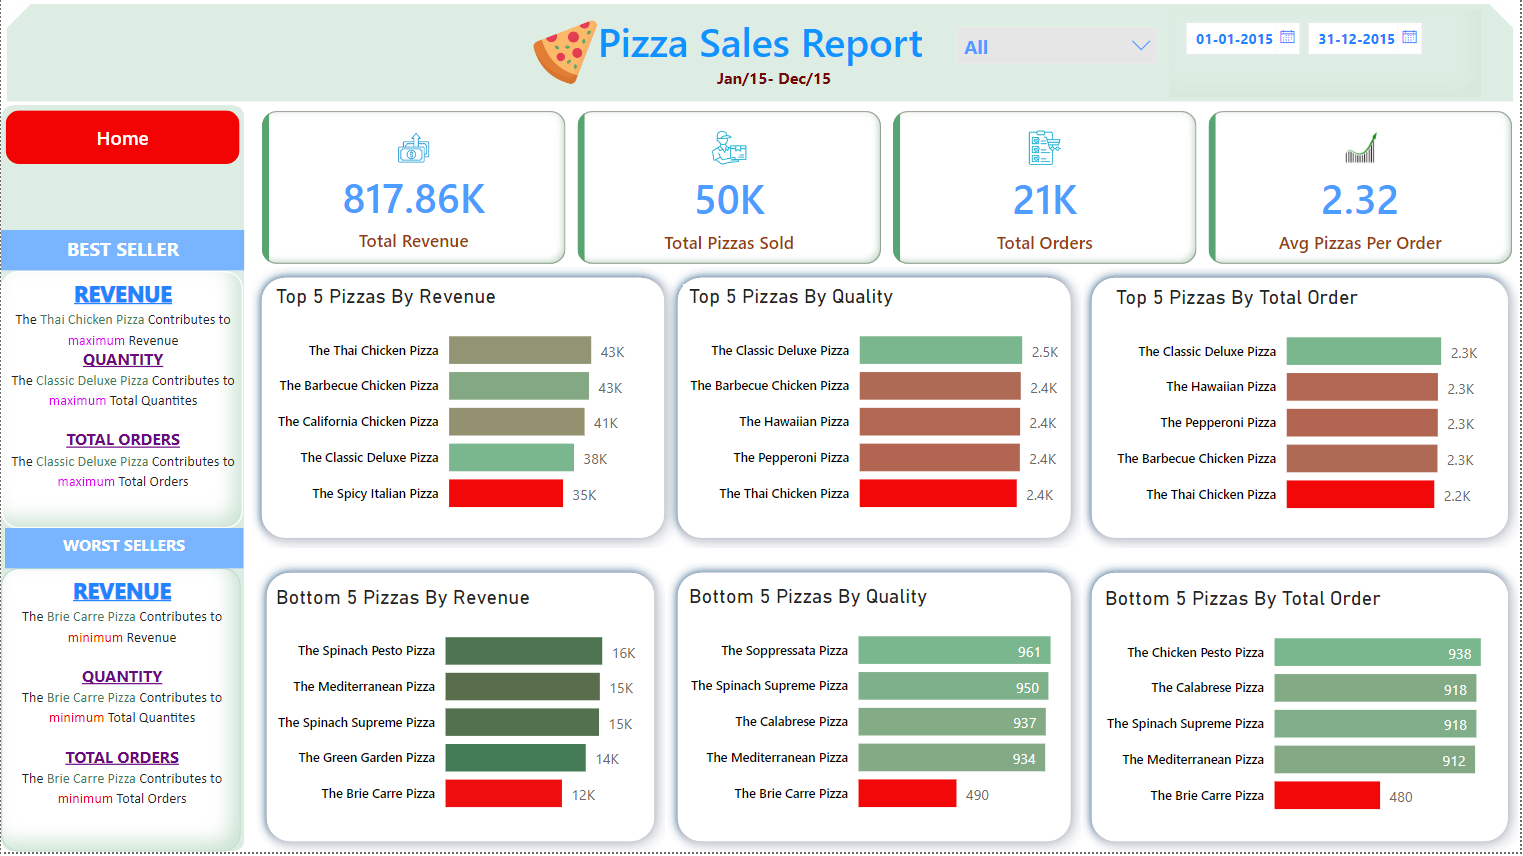

The dashboard page shown, as its layout file describes it:
{"tool":"powerbi","page":{"name":"Next Page","canvas":[1280,720],"ordinal":1},"visuals":[{"type":"cardVisual","fields":{"Data":["pizza_sales.Total Revenue","pizza_sales.Total Pizzas Sold","pizza_sales.Total Orders","pizza_sales.Avg Pizzas Per Order"]},"box":[215.2,90.6,1064.6,139.1],"z":0},{"type":"shape","box":[0,0,1279.8,92.2],"z":1000},{"type":"textbox","box":[10,312.5,1270,163],"z":2000},{"type":"textbox","box":[572.8,53.4,158.6,37.2],"z":3000},{"type":"image","box":[388.3,12.9,173.1,66.3],"z":4000},{"type":"shape","box":[210.4,226.6,357.3,237.3],"z":5000},{"type":"shape","box":[0,90.6,205.5,629.4],"z":6000},{"type":"textbox","box":[0,195.8,205.5,34],"z":7000},{"type":"textbox","box":[0,229.8,203.9,216.8],"z":8000},{"type":"textbox","box":[0,480.5,202.2,239.5],"z":9000},{"type":"textbox","box":[3.2,446.6,200.6,34],"z":10000},{"type":"slicer","fields":{"Values":["pizza_sales.pizza_category"]},"box":[796,14.6,189.3,76],"z":11000},{"type":"slicer","fields":{"Values":["pizza_sales.order_date"]},"box":[985.3,9.7,262.1,72.8],"z":12000},{"type":"shape","box":[561.5,226.6,349.3,237.3],"z":13000},{"type":"shape","box":[910.7,226.6,369,237.3],"z":14000},{"type":"shape","box":[910.7,475.5,369,244.5],"z":15000},{"type":"shape","box":[214.9,475.5,344.8,244.5],"z":16000},{"type":"shape","box":[561.5,475.5,349.3,244.5],"z":17000},{"type":"barChart","title":"Top 5 Pizzas By Revenue","fields":{"Category":["pizza_sales.pizza_name"],"Y":["pizza_sales.Total Revenue"]},"box":[226.6,240.9,321.5,206],"z":18000},{"type":"pageNavigator","box":[0,92.2,205.5,50.2],"z":19000},{"type":"barChart","title":"Bottom 5 Pizzas By Revenue","fields":{"Category":["pizza_sales.pizza_name"],"Y":["pizza_sales.Total Revenue"]},"box":[226.6,495.2,322.4,205.1],"z":20000},{"type":"barChart","title":"Top 5 Pizzas By Quality","fields":{"Category":["pizza_sales.pizza_name"],"Y":["pizza_sales.Total Pizzas Sold"]},"box":[574.9,240.9,321.5,206],"z":21000},{"type":"barChart","title":"Bottom 5 Pizzas By Quality","fields":{"Category":["pizza_sales.pizza_name"],"Y":["pizza_sales.Total Pizzas Sold"]},"box":[574.9,494.3,321.5,206],"z":22000},{"type":"barChart","title":"Top 5 Pizzas By Total Order","fields":{"Category":["pizza_sales.pizza_name"],"Y":["pizza_sales.Total Orders"]},"box":[934.7,242.3,321.7,206],"z":23000},{"type":"barChart","title":"Bottom 5 Pizzas By Total Order","fields":{"Category":["pizza_sales.pizza_name"],"Y":["pizza_sales.Total Orders"]},"box":[925.9,495.3,338.4,206],"z":24000}]}

Visuals, with their boxes in screenshot pixels (x1, y1, x2, y2), scaled from the page's 1280x720 canvas onto the 1523x856 screenshot:
cardVisual - pizza_sales.Total Revenue x pizza_sales.Total Pizzas Sold: detection(256, 108, 1522, 273)
shape: detection(0, 0, 1522, 110)
textbox: detection(12, 372, 1522, 565)
textbox: detection(682, 63, 870, 108)
image: detection(462, 15, 668, 94)
shape: detection(250, 269, 675, 552)
shape: detection(0, 108, 245, 855)
textbox: detection(0, 233, 245, 273)
textbox: detection(0, 273, 243, 531)
textbox: detection(0, 571, 241, 855)
textbox: detection(4, 531, 242, 571)
slicer - pizza_sales.pizza_category: detection(947, 17, 1172, 108)
slicer - pizza_sales.order_date: detection(1172, 12, 1484, 98)
shape: detection(668, 269, 1084, 552)
shape: detection(1084, 269, 1522, 552)
shape: detection(1084, 565, 1522, 855)
shape: detection(256, 565, 666, 855)
shape: detection(668, 565, 1084, 855)
"Top 5 Pizzas By Revenue" barChart: detection(270, 286, 652, 531)
pageNavigator: detection(0, 110, 245, 169)
"Bottom 5 Pizzas By Revenue" barChart: detection(270, 589, 653, 833)
"Top 5 Pizzas By Quality" barChart: detection(684, 286, 1067, 531)
"Bottom 5 Pizzas By Quality" barChart: detection(684, 588, 1067, 833)
"Top 5 Pizzas By Total Order" barChart: detection(1112, 288, 1495, 533)
"Bottom 5 Pizzas By Total Order" barChart: detection(1102, 589, 1504, 834)
